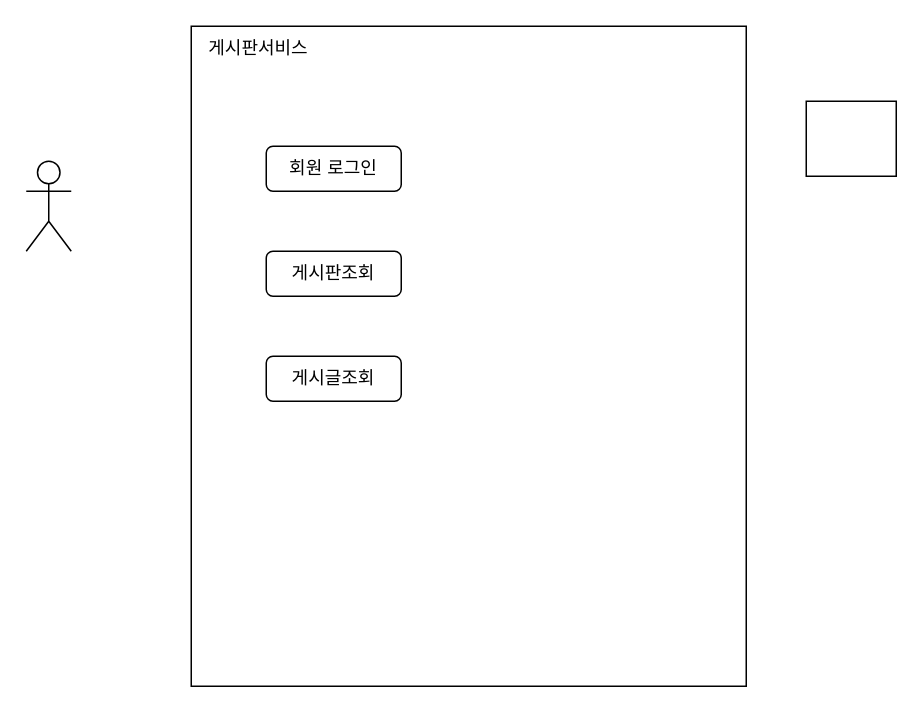
This 923x713 diagram has some shape labels left out. Each missing label, with the box of its shape:
DB: (805, 100, 896, 176)
유저: (25, 160, 71, 251)
